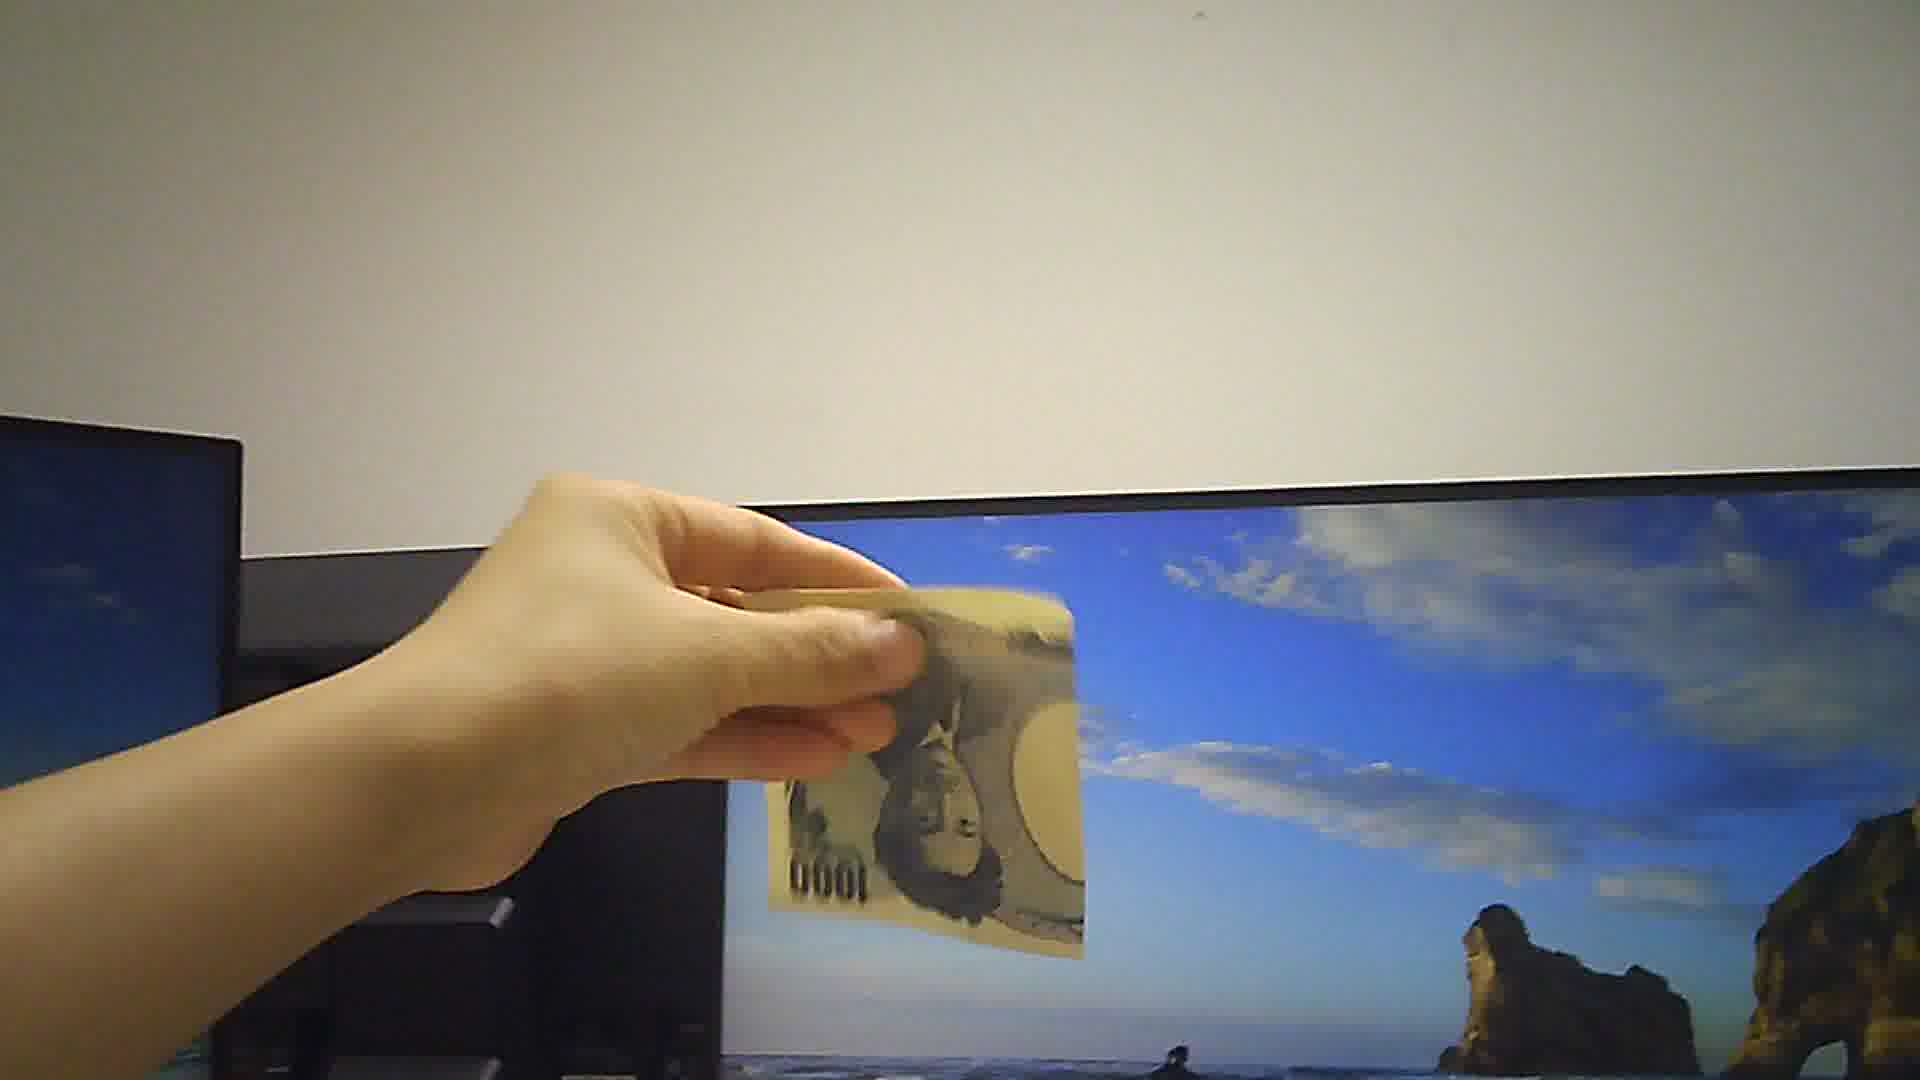1,000 Yen: (735, 578, 1108, 971)
